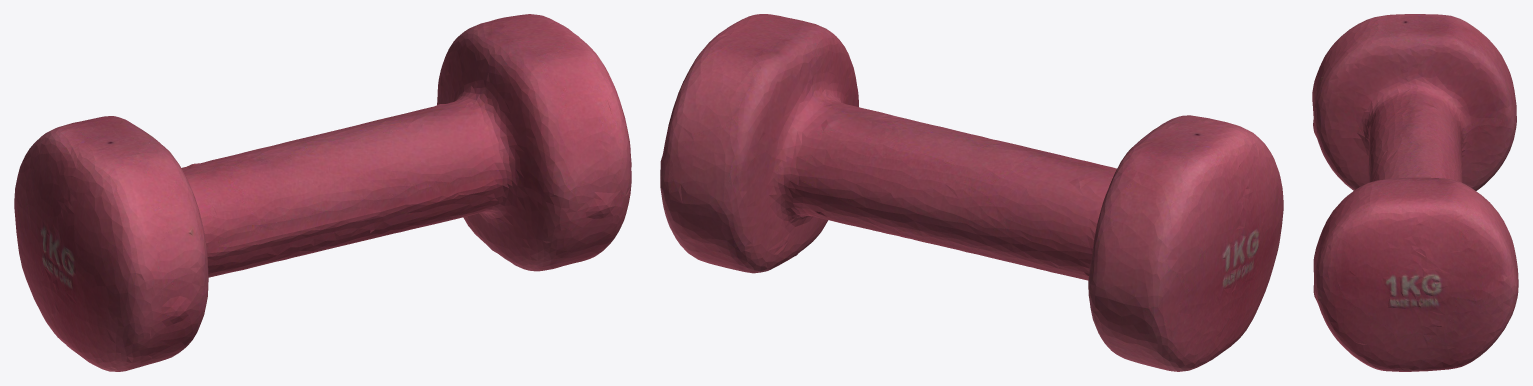
The model's file is Scan.obj.
The picture shows the model from 3 angles, left to right: view 1: azimuth 30°, elevation 25°; view 2: azimuth 150°, elevation 25°; view 3: azimuth 270°, elevation 25°; orthographic projection. The views are drawn at different scales.
Parts seen in each view (by area): view 1: Scan.002; view 2: Scan.002; view 3: Scan.002.
Part boxes in pixels (box(x1,y1,x2,y2)): Scan.002: box(14, 14, 631, 371); Scan.002: box(660, 14, 1283, 371); Scan.002: box(1312, 14, 1518, 371).
Bounding box in the file's own units: 0.1452 × 0.0562 × 0.0608.
1 material, 1 textured.
